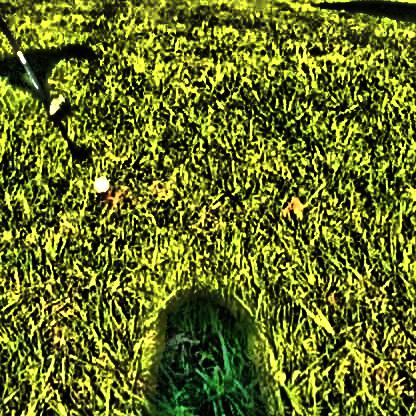golfball: (91, 173, 106, 190)
